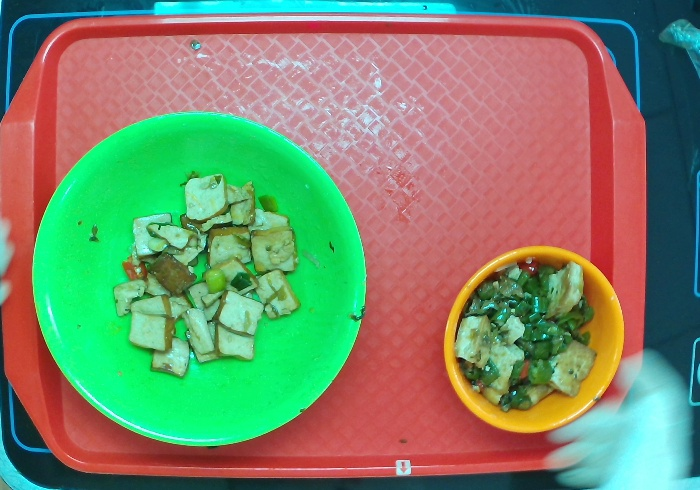YKMZ-Ju_Se_Yuan_Wan: (434, 238, 626, 442)
YKMZ-Lv_Se_Tang_Wan: (30, 104, 374, 453)
